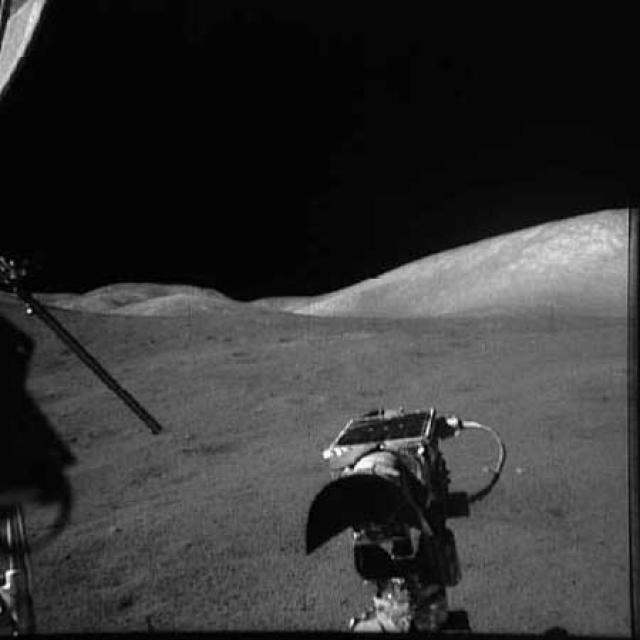artifact: (0, 0, 172, 639), (306, 396, 526, 638)
